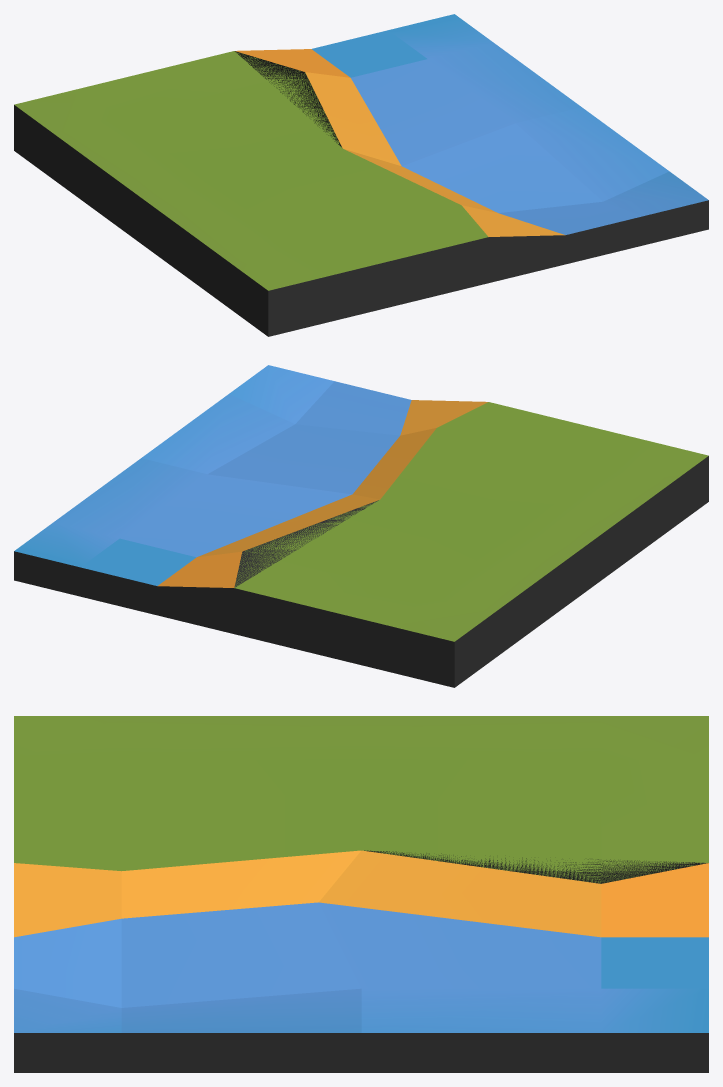
Rendered from sea_line.fbx.
3 views of the same model, one above another, from view 1: azimuth 30°, elevation 25°; view 2: azimuth 150°, elevation 25°; view 3: azimuth 270°, elevation 25° (orthographic). The views are drawn at different scales.
Visible parts, largest first — view 1: block; view 2: block; view 3: block.
Boxes of the visible parts, x1=… form: block: x1=14, y1=14, x2=708, y2=336; block: x1=14, y1=365, x2=708, y2=687; block: x1=14, y1=716, x2=708, y2=1072.
Size of the model in its own units: 200 by 200 by 20.
1 material, 1 textured.
